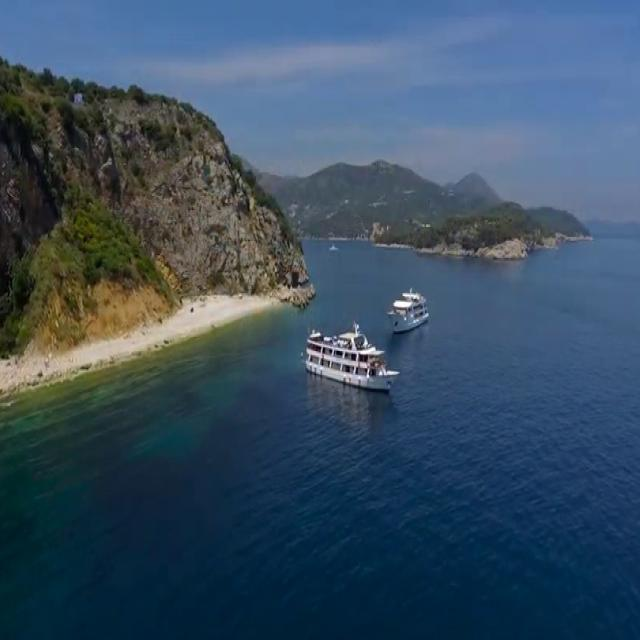passenger ship: (307, 323, 403, 387), (390, 291, 430, 333)
